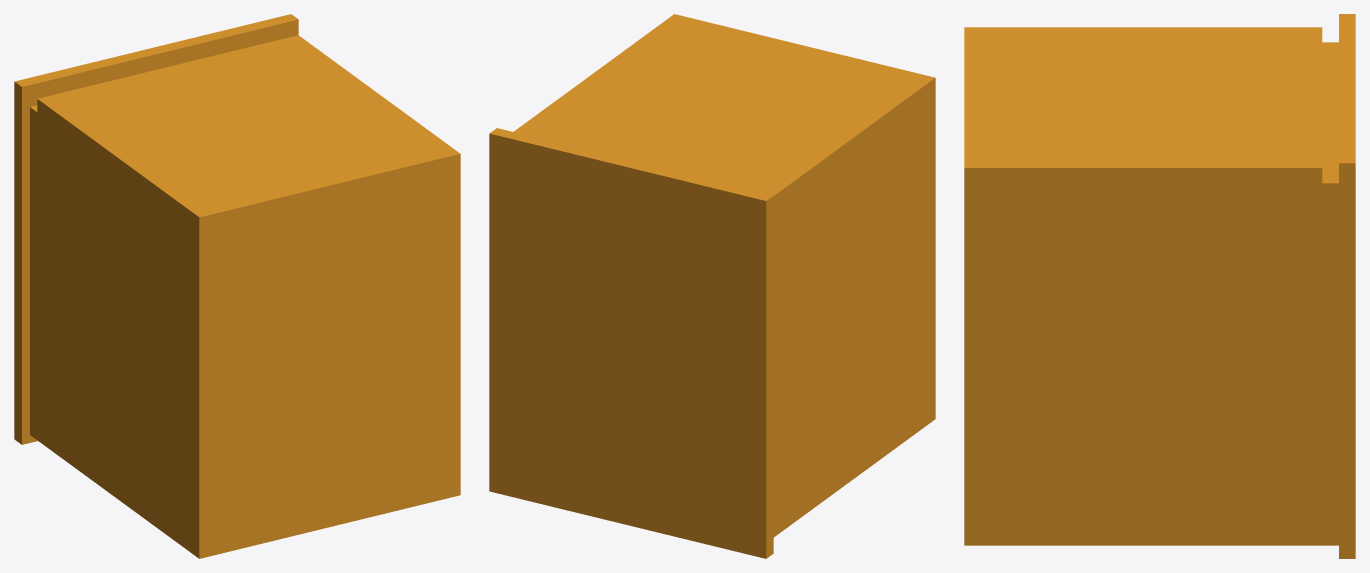
Rendered from Drawer_On_Top.dae.
The picture shows the model from 3 angles, left to right: view 1: azimuth 30°, elevation 25°; view 2: azimuth 150°, elevation 25°; view 3: azimuth 270°, elevation 25°; orthographic projection. The views are drawn at different scales.
Parts seen in each view (by area): view 1: node0; view 2: node0; view 3: node0.
Part boxes in pixels (x1,y1,x2,y2): node0: (14, 14, 460, 558); node0: (489, 14, 935, 558); node0: (964, 14, 1355, 558).
Size of the model in its own units: 0.424 by 0.47 by 0.524.
